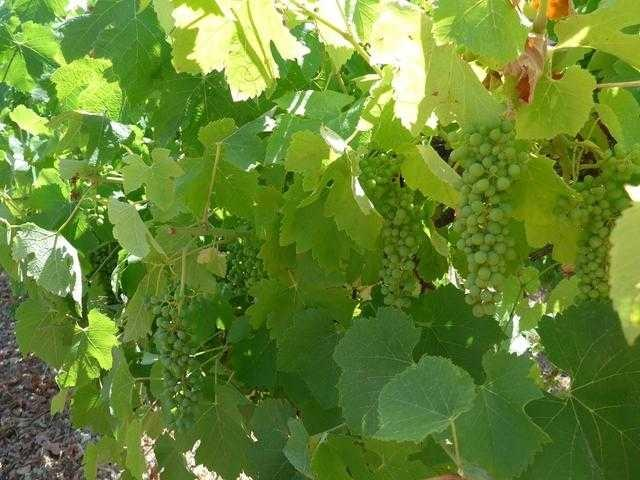Grape Unripe: (439, 107, 528, 322), (552, 172, 634, 307), (374, 146, 434, 310)
